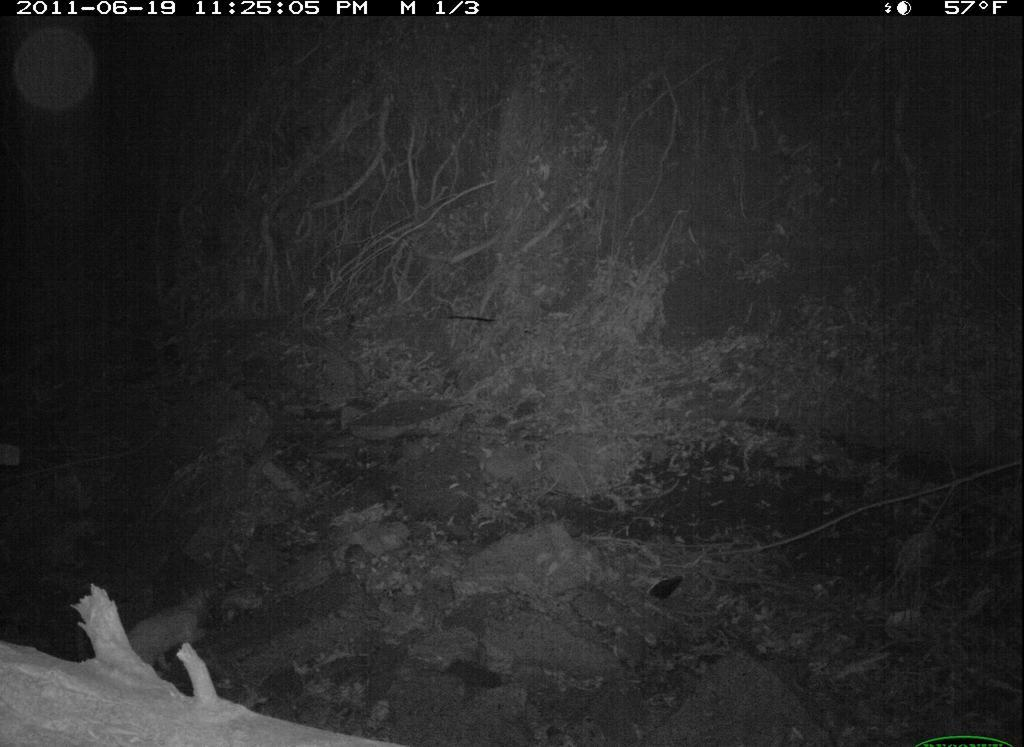cat: (114, 581, 224, 677)
